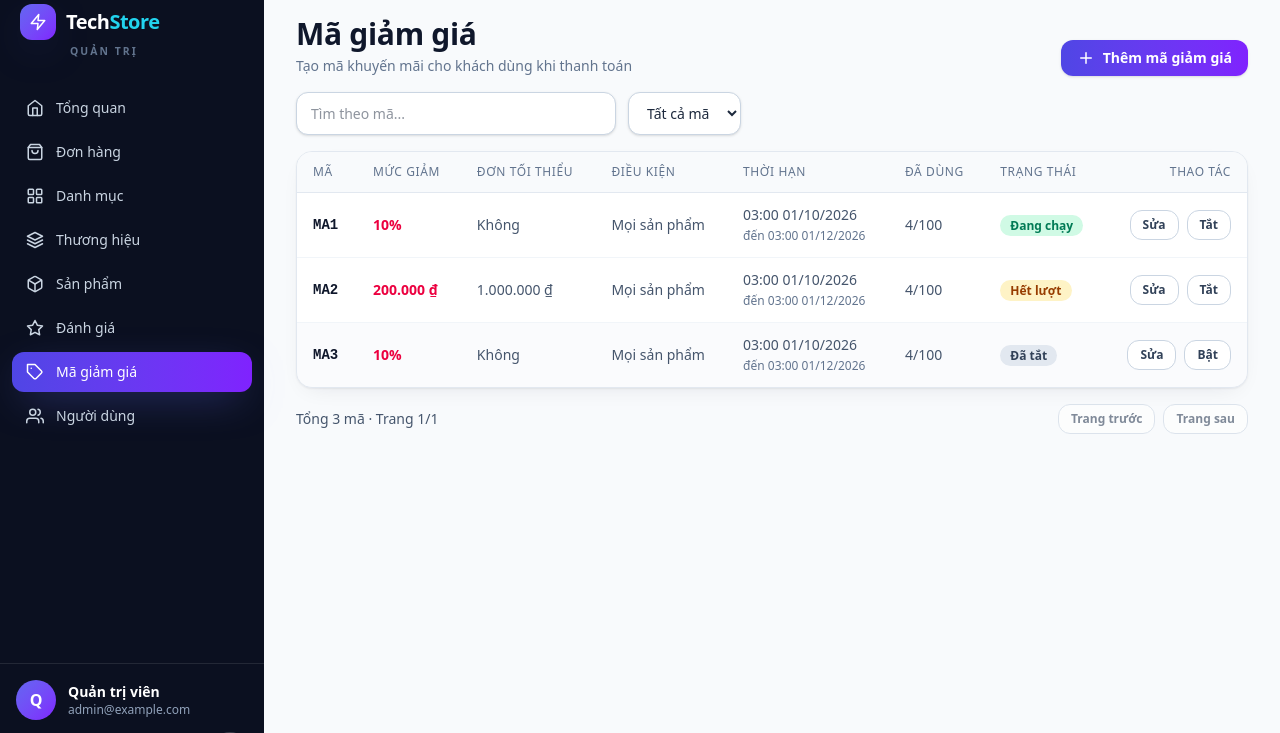
Test: Sửa và bật/tắt mã giảm giá (US-24 AC2) › đặt lượt tối đa thấp hơn số đã dùng: hiện lỗi của máy chủ
This screenshot has width=1280, height=733.
Click the button with aria-label "Sửa mã MA1".
click(1154, 225)  # box [1130,210,1179,240]
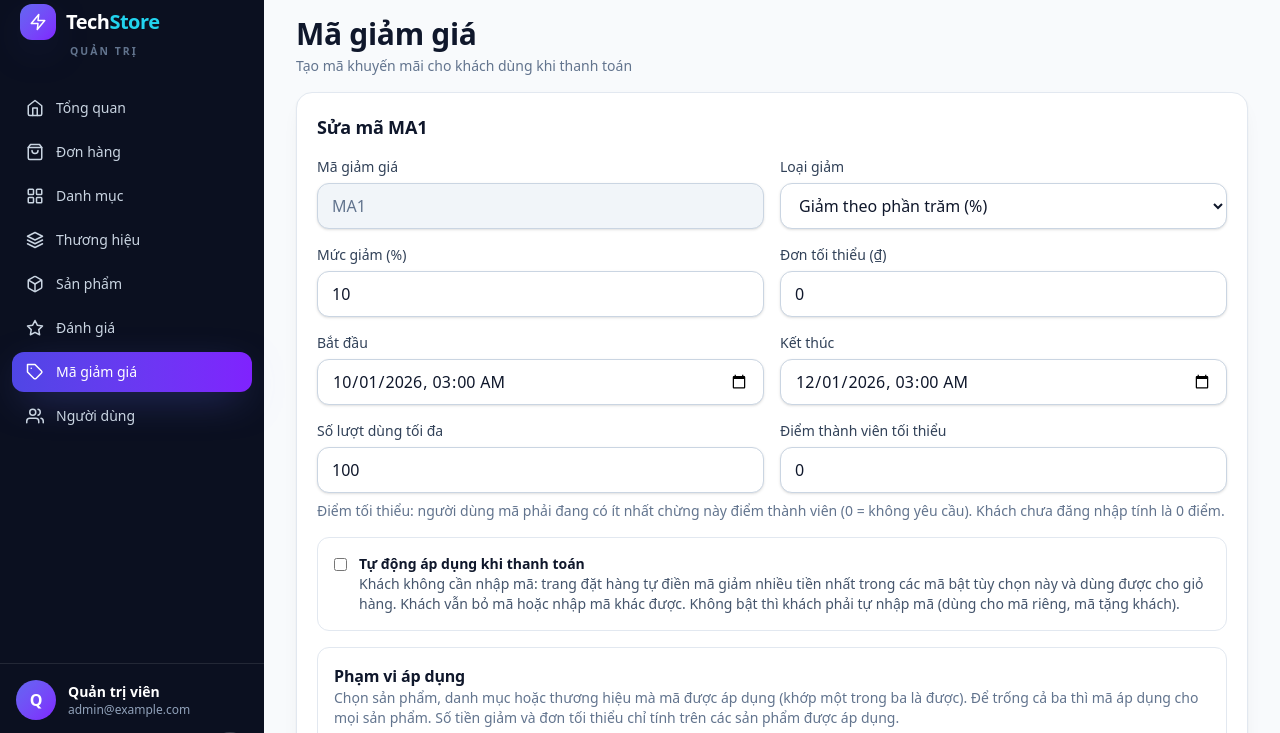
Replace the text in the field labelled "Số lượt dùng tối đa" with "2" at (540,470), box [317,447,764,493]
(page scrolled)
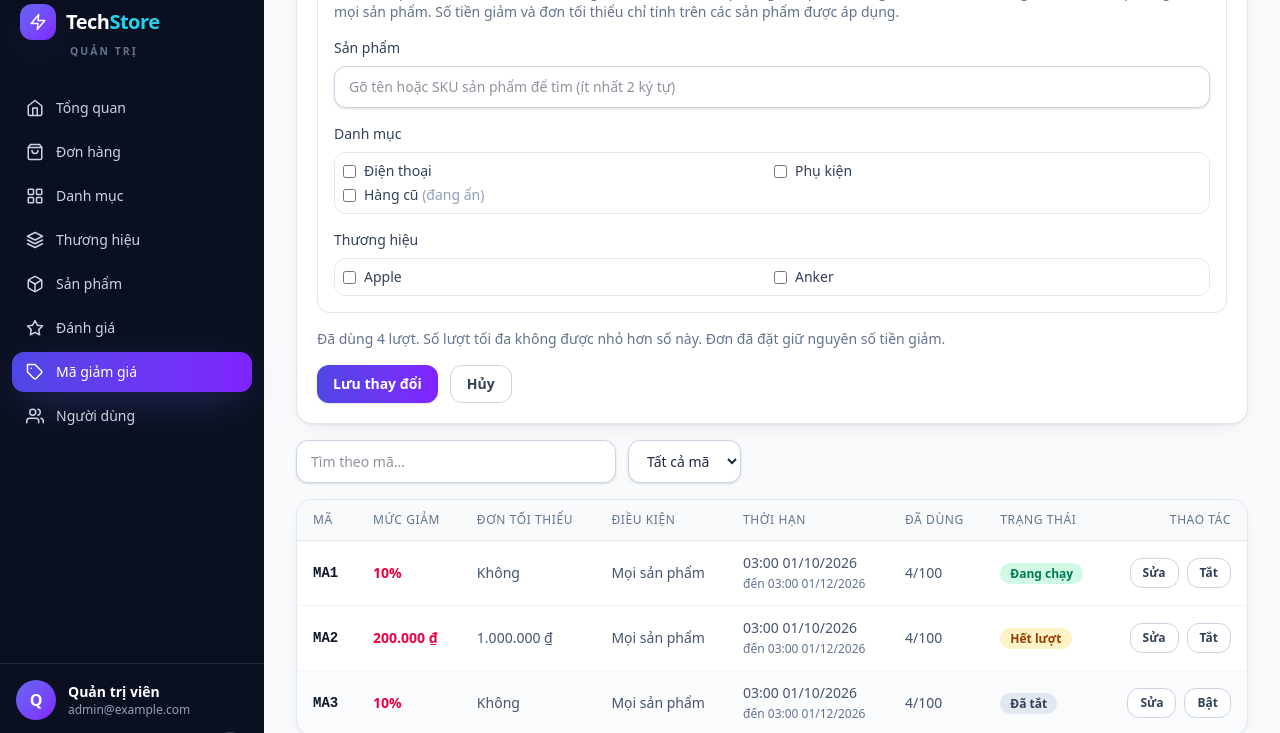
Click the button "Lưu thay đổi".
click(377, 384)  # box [317,365,438,403]
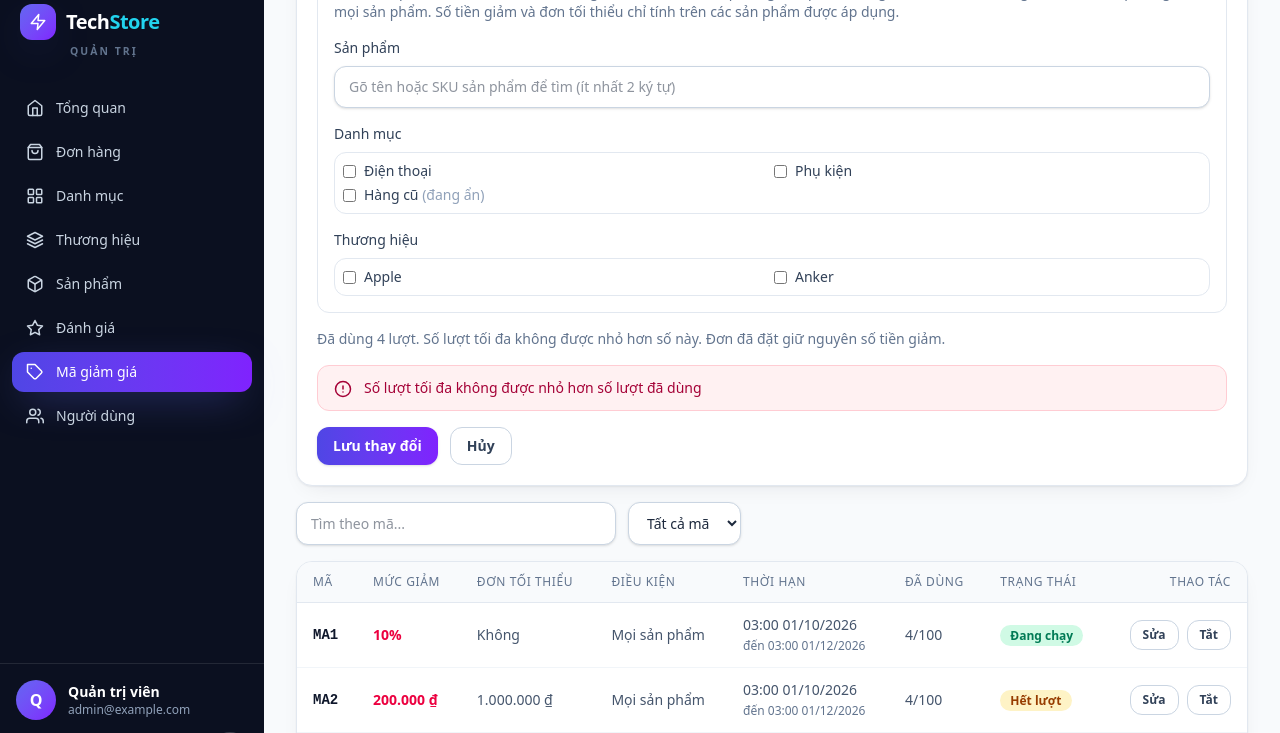
Now the text "Số lượt tối đa không được nhỏ hơn số lượt đã dùng" is shown, box [364,378,702,398]
